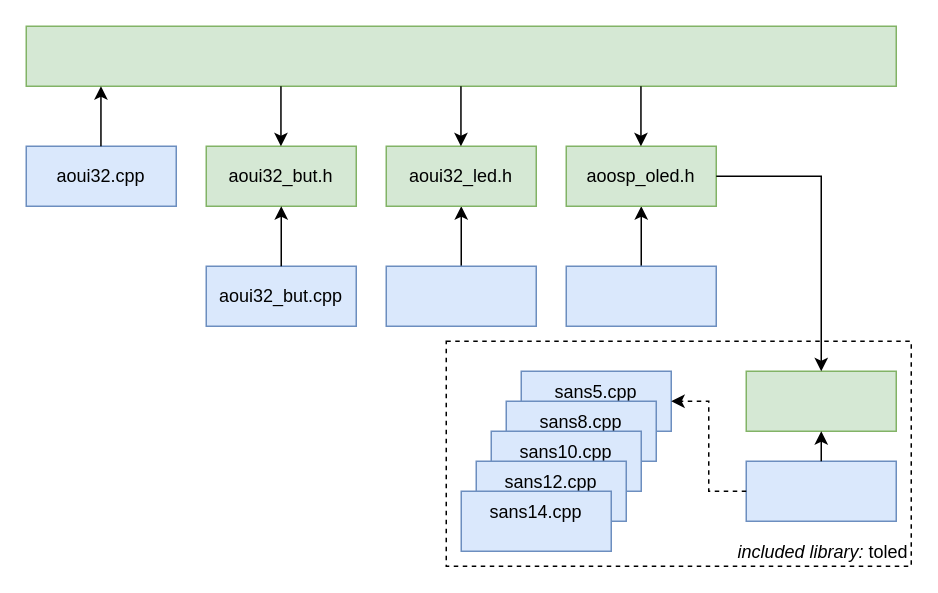
Image size: 938x593. Some labels were removed from this diagram. The centre of each missing label's shape, as x and y in pixels:
"aoosp_oled.cpp" goes at point 640,295.
"aoui32.h" goes at point 460,55.
"aoui32_led.cpp" goes at point 460,295.
"toled.cpp" goes at point 820,490.
"toled.h" goes at point 820,400.
